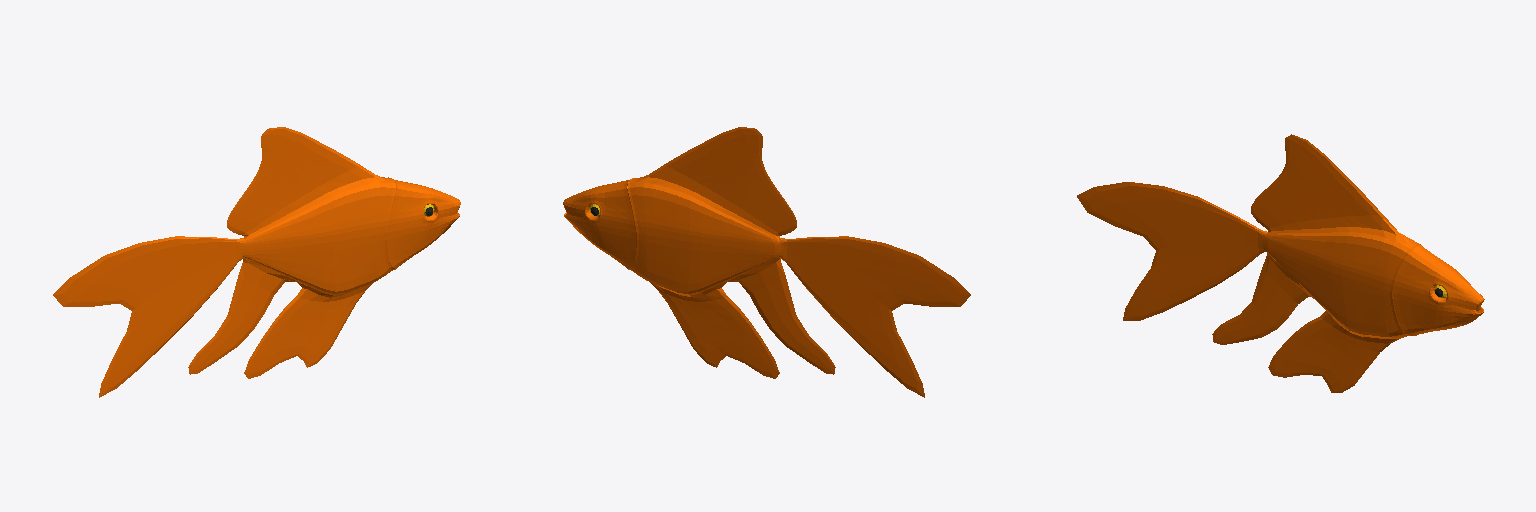
File: Goldfish.obj
3 renders of one model, left to right at view 1: azimuth 30°, elevation 25°; view 2: azimuth 150°, elevation 25°; view 3: azimuth 330°, elevation 25°, orthographic.
Visible parts, largest first — view 1: Goldfish; view 2: Goldfish; view 3: Goldfish.
Boxes of the visible parts, <box> form: Goldfish: <box>53,127,460,397</box>; Goldfish: <box>563,127,970,397</box>; Goldfish: <box>1077,134,1484,392</box>.
Bounding box in the file's own units: 295 × 172 × 24.04.